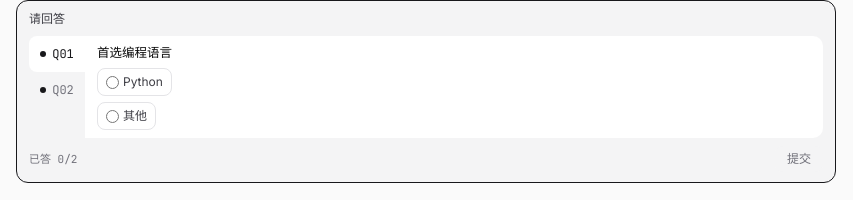
Test: PendingQuestionNav · 单选选中自动前进 › q1 单选选中普通项 → 自动切到 q2（q2 选项出现、q1 选项移出 DOM）
What coordinates should you click on to do the following:
click the text "Python"
I would click on:
 (134, 82)
Its box is left=97, top=68, right=172, bottom=96.
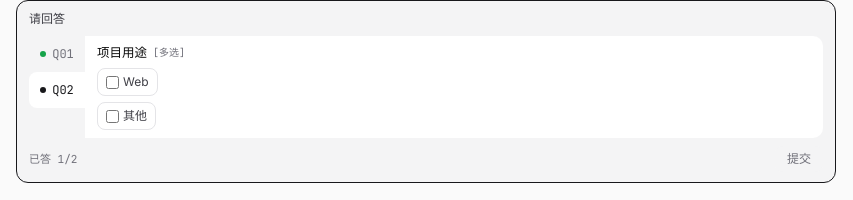
Expected: the text "Web" is shown, left=97, top=68, right=158, bottom=96
Expected: the text "Python" is gone
